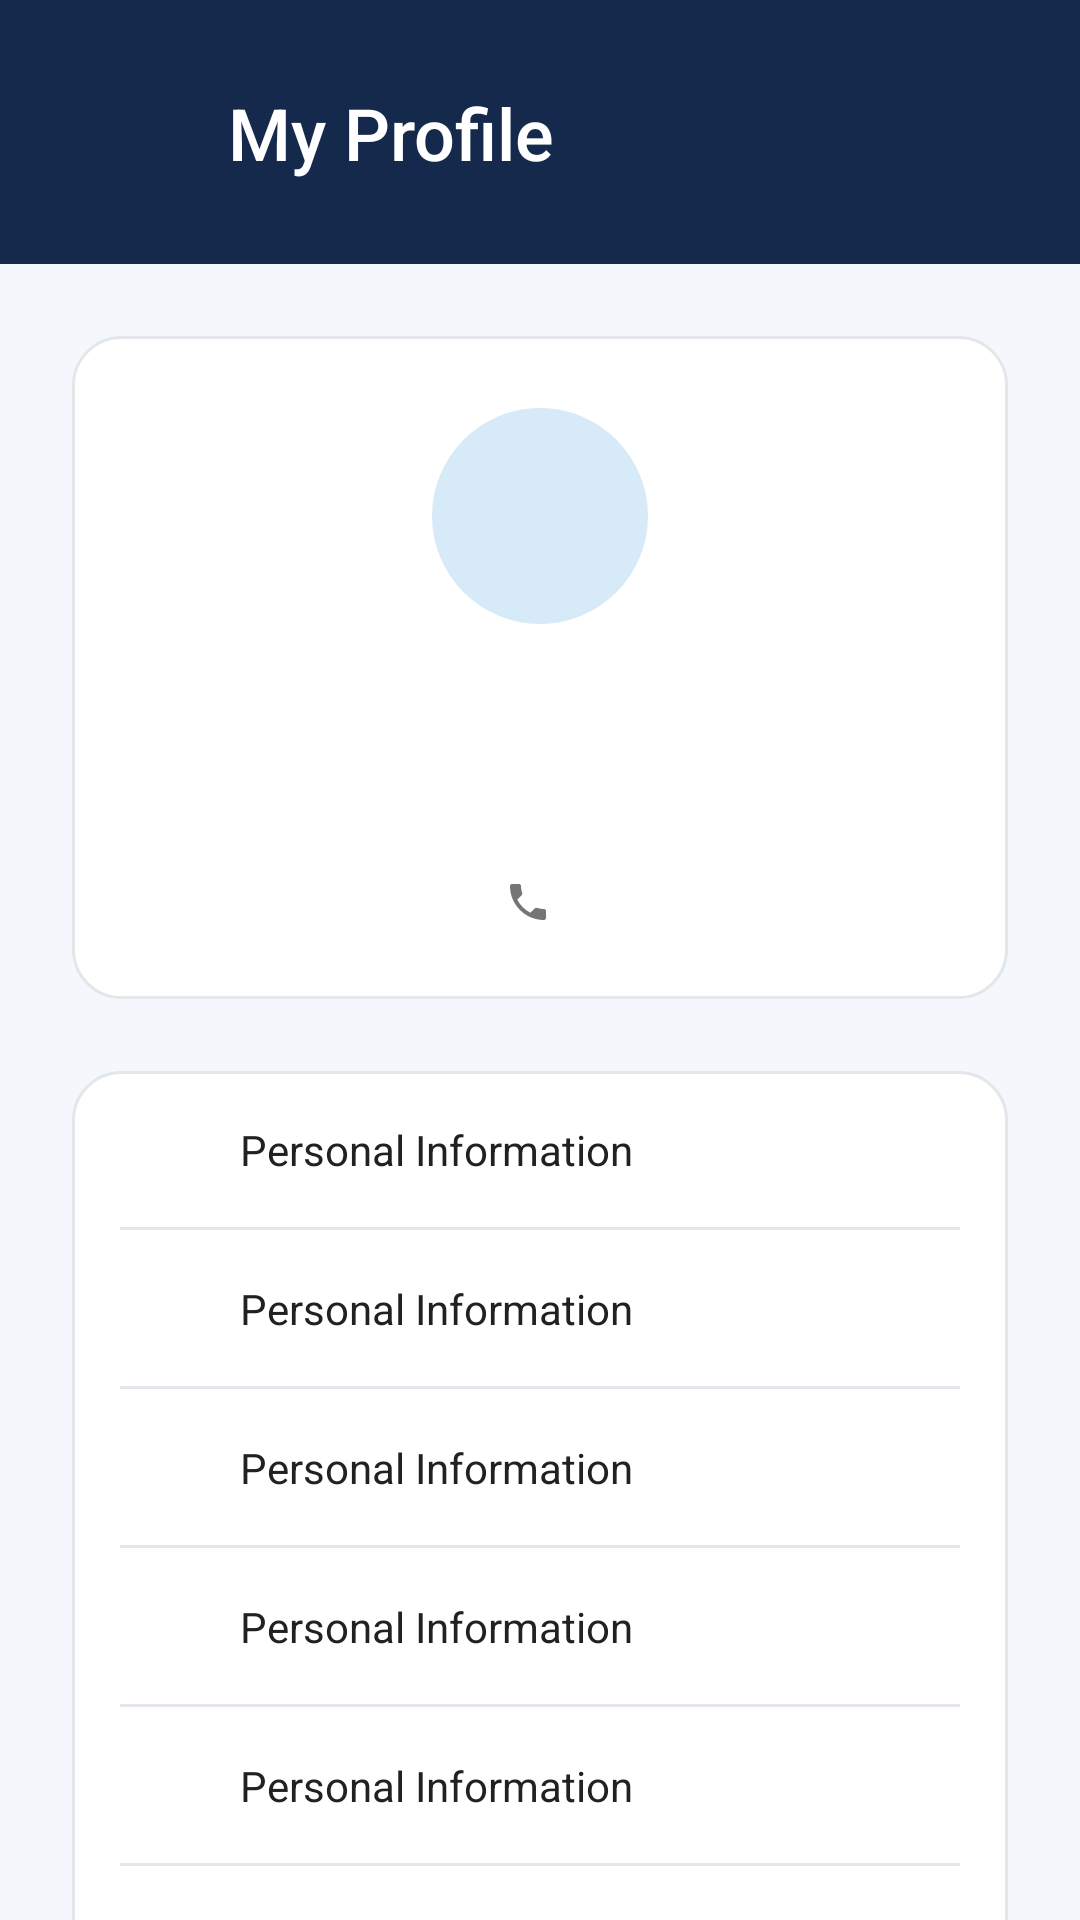

Icons on this 1080*1920 Android screen, each with the point to tap as [x,y]:
Mobile number: [528,902]
